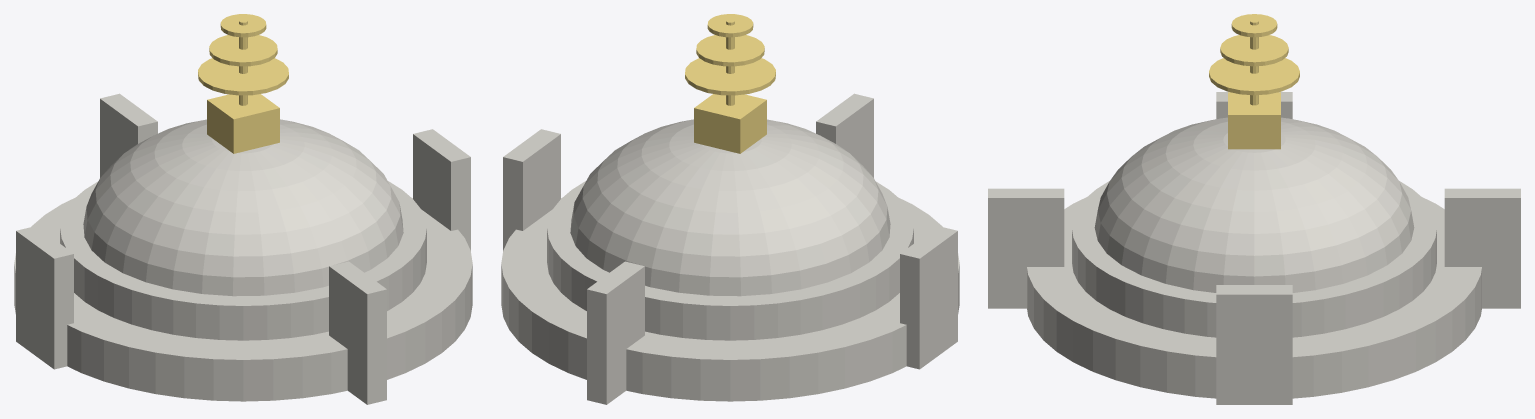
File: stupa_s5.glb
3 renders of one model, left to right at view 1: azimuth 30°, elevation 25°; view 2: azimuth 150°, elevation 25°; view 3: azimuth 270°, elevation 25°, orthographic.
Visible parts, largest first — view 1: Sphere, Cylinder, Cylinder.001, Cube.003, Cube.004, Cube.001, Cube, Cube.002, Cylinder.003, Cylinder.004, Cylinder.005; view 2: Sphere, Cylinder, Cylinder.001, Cube.003, Cube.002, Cube.001, Cube, Cube.004, Cylinder.003, Cylinder.004, Cylinder.005; view 3: Sphere, Cylinder, Cylinder.001, Cube.001, Cube.002, Cube.004, Cube, Cylinder.003, Cylinder.004, Cylinder.005, Cube.003.
Boxes of the visible parts, x1,y1,x2,y2 form: Sphere: (83, 119, 403, 296); Cylinder: (14, 198, 472, 401); Cylinder.001: (60, 181, 426, 340); Cube.003: (16, 226, 73, 369); Cube.004: (329, 261, 386, 404); Cube.001: (413, 129, 470, 250); Cube: (207, 94, 279, 153); Cube.002: (100, 93, 157, 177); Cylinder.003: (198, 58, 288, 95); Cylinder.004: (209, 35, 277, 66); Cylinder.005: (220, 14, 266, 37); Sphere: (570, 119, 890, 296); Cylinder: (501, 198, 959, 401); Cylinder.001: (547, 181, 913, 340); Cube.003: (900, 226, 957, 369); Cube.002: (587, 261, 644, 404); Cube.001: (503, 129, 560, 250); Cube: (694, 94, 766, 153); Cube.004: (816, 93, 873, 177); Cylinder.003: (685, 58, 775, 95); Cylinder.004: (696, 35, 764, 66); Cylinder.005: (707, 14, 753, 37); Sphere: (1094, 117, 1414, 292); Cylinder: (1027, 197, 1481, 398); Cylinder.001: (1072, 181, 1436, 337); Cube.001: (1216, 285, 1292, 404); Cube.002: (1444, 188, 1520, 308); Cube.004: (988, 188, 1064, 308); Cube: (1228, 92, 1280, 149); Cylinder.003: (1209, 58, 1299, 95); Cylinder.004: (1220, 35, 1288, 66); Cylinder.005: (1231, 14, 1277, 37); Cube.003: (1216, 92, 1292, 118).
Bounding box in the file's own units: 6.3 × 4.3 × 7.
